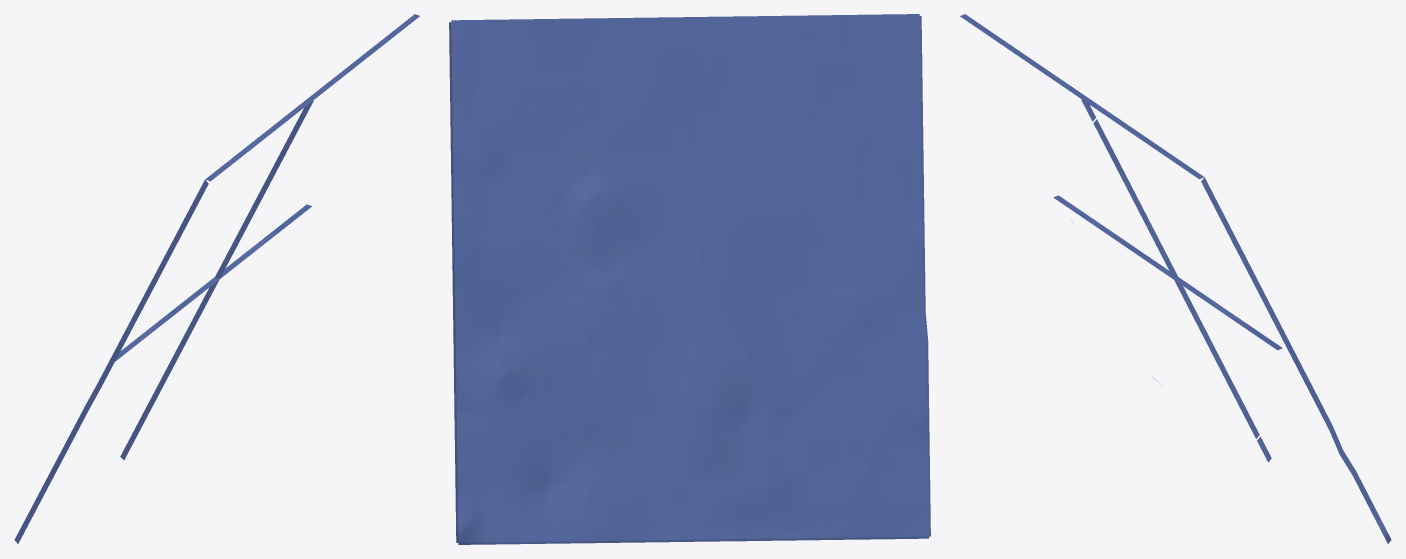
The picture shows the model from 3 angles, left to right: view 1: azimuth 30°, elevation 25°; view 2: azimuth 150°, elevation 25°; view 3: azimuth 270°, elevation 25°; orthographic projection. The views are drawn at different scales.
Size of the model in its own units: 39478 by 35693 by 33561.
1 material, 1 textured.
